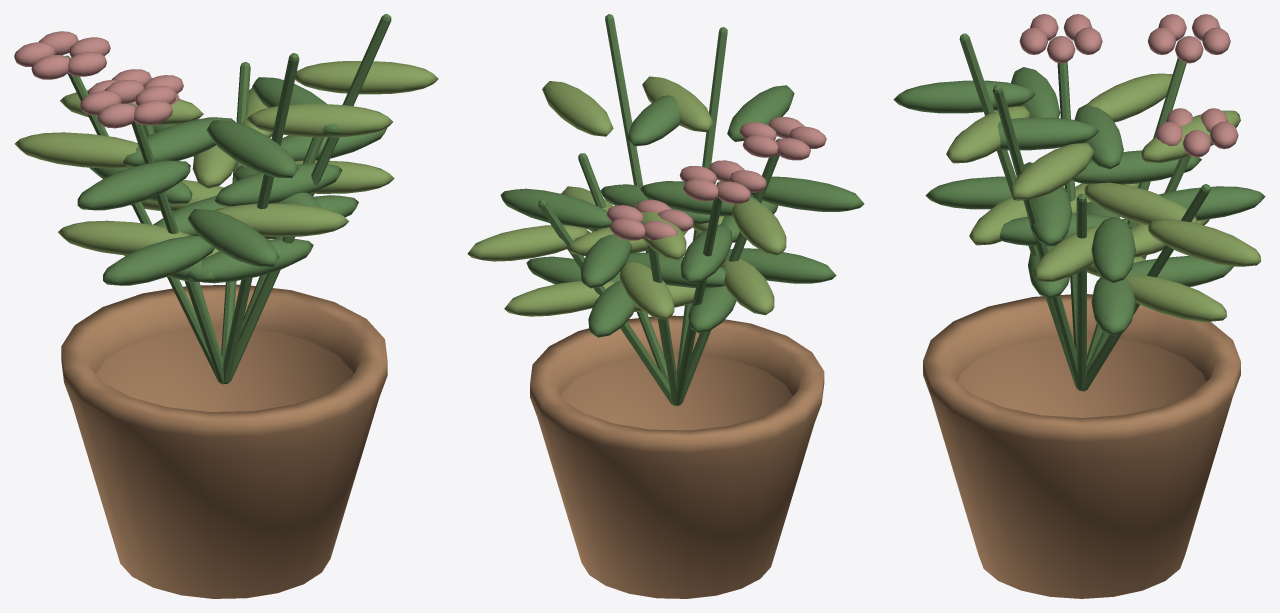
The model's file is SM_HH_Art_HerbPot.fbx.
3 views of the same model, side by side, from view 1: azimuth 30°, elevation 25°; view 2: azimuth 150°, elevation 25°; view 3: azimuth 270°, elevation 25° (orthographic). The views are drawn at different scales.
Parts seen in each view (by area): view 1: HH_Art_HerbPot; view 2: HH_Art_HerbPot; view 3: HH_Art_HerbPot.
Part boxes in pixels (x1,y1,x2,y2): HH_Art_HerbPot: [14, 14, 438, 598]; HH_Art_HerbPot: [467, 14, 864, 598]; HH_Art_HerbPot: [893, 14, 1265, 598].
Size of the model in its own units: 0.4684 by 0.503 by 0.74.
